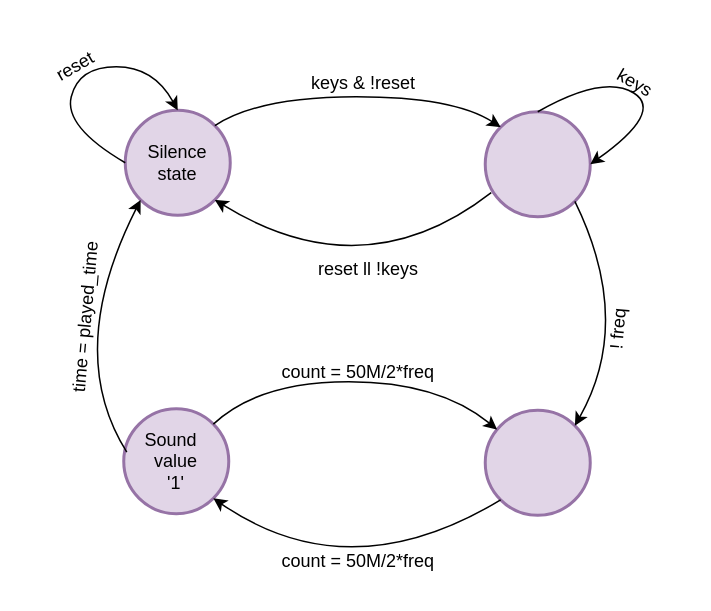
Image size: 711x611. Some labels were removed from this diagram. Each missing label, with the box of its shape:
Sound state: (483, 110, 591, 218)
Sound value '0': (483, 408, 591, 516)
